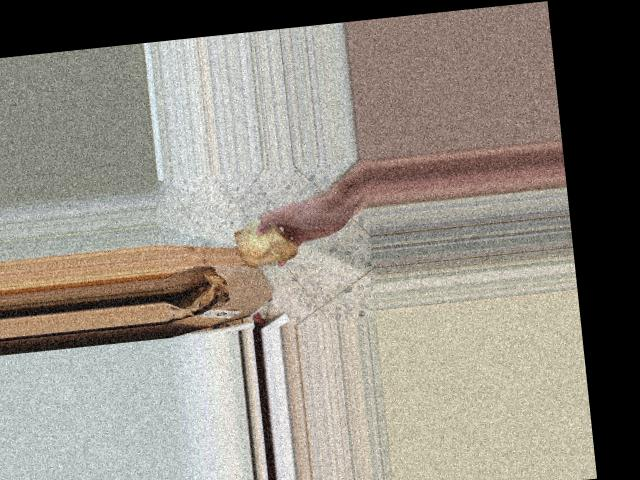onion: (229, 213, 304, 271)
